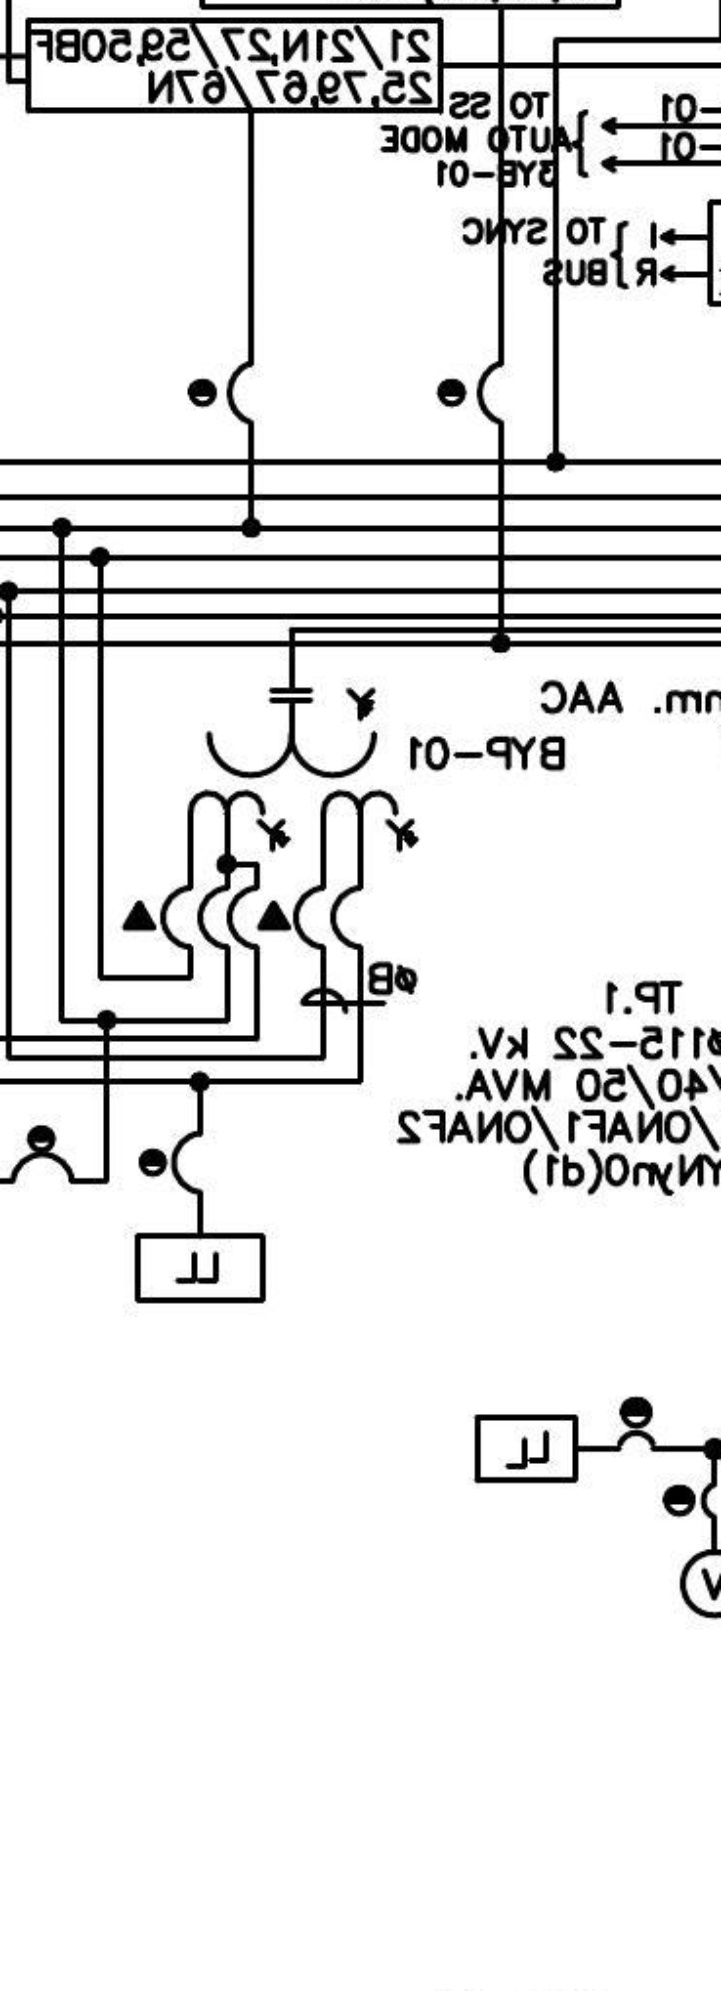115_cvt_3p: (187, 687, 421, 855)
LL: (135, 1232, 265, 1304), (473, 1415, 579, 1484)
